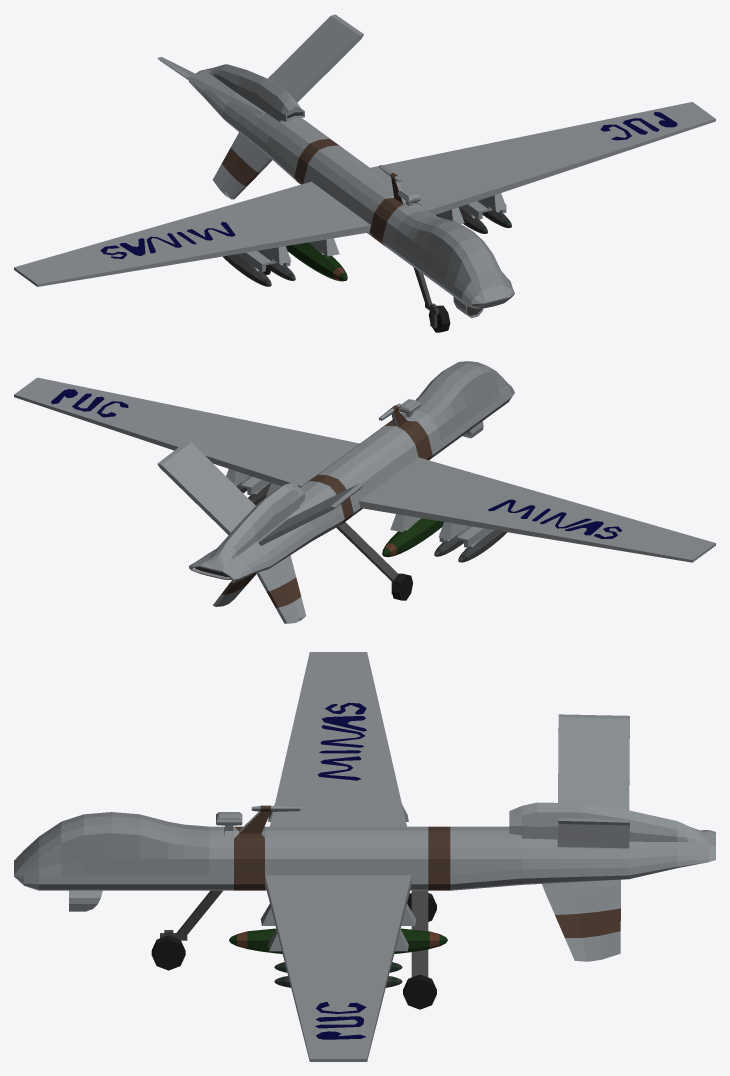
File: drone guerra.fbx
The picture shows the model from 3 angles, top to bottom: view 1: azimuth 30°, elevation 25°; view 2: azimuth 150°, elevation 25°; view 3: azimuth 270°, elevation 25°; orthographic projection. The views are drawn at different scales.
Parts seen in each view (by area): view 1: Cube; view 2: Cube; view 3: Cube.
Part boxes in pixels (x1,y1,x2,y2): Cube: [14, 14, 715, 332]; Cube: [14, 361, 715, 623]; Cube: [14, 652, 715, 1061].
Bounding box in the file's own units: 335 × 75.81 × 244.
